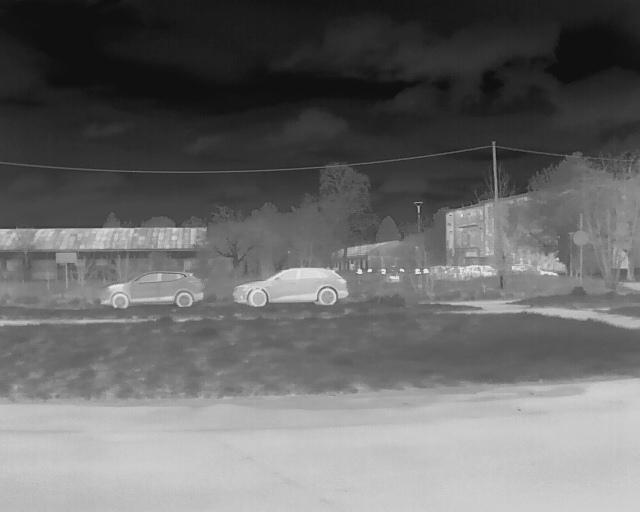drone: (355, 260, 435, 314)
